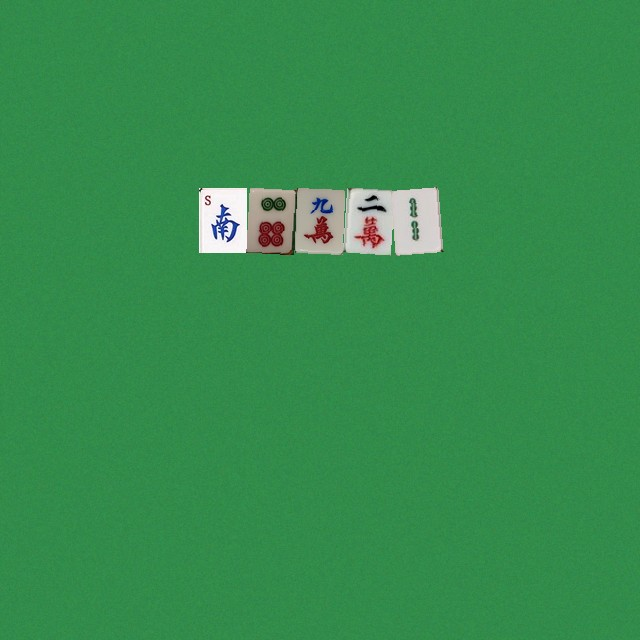tile: (198, 187, 246, 252), (246, 187, 294, 252), (294, 187, 342, 252), (342, 187, 390, 252), (390, 187, 438, 252)
